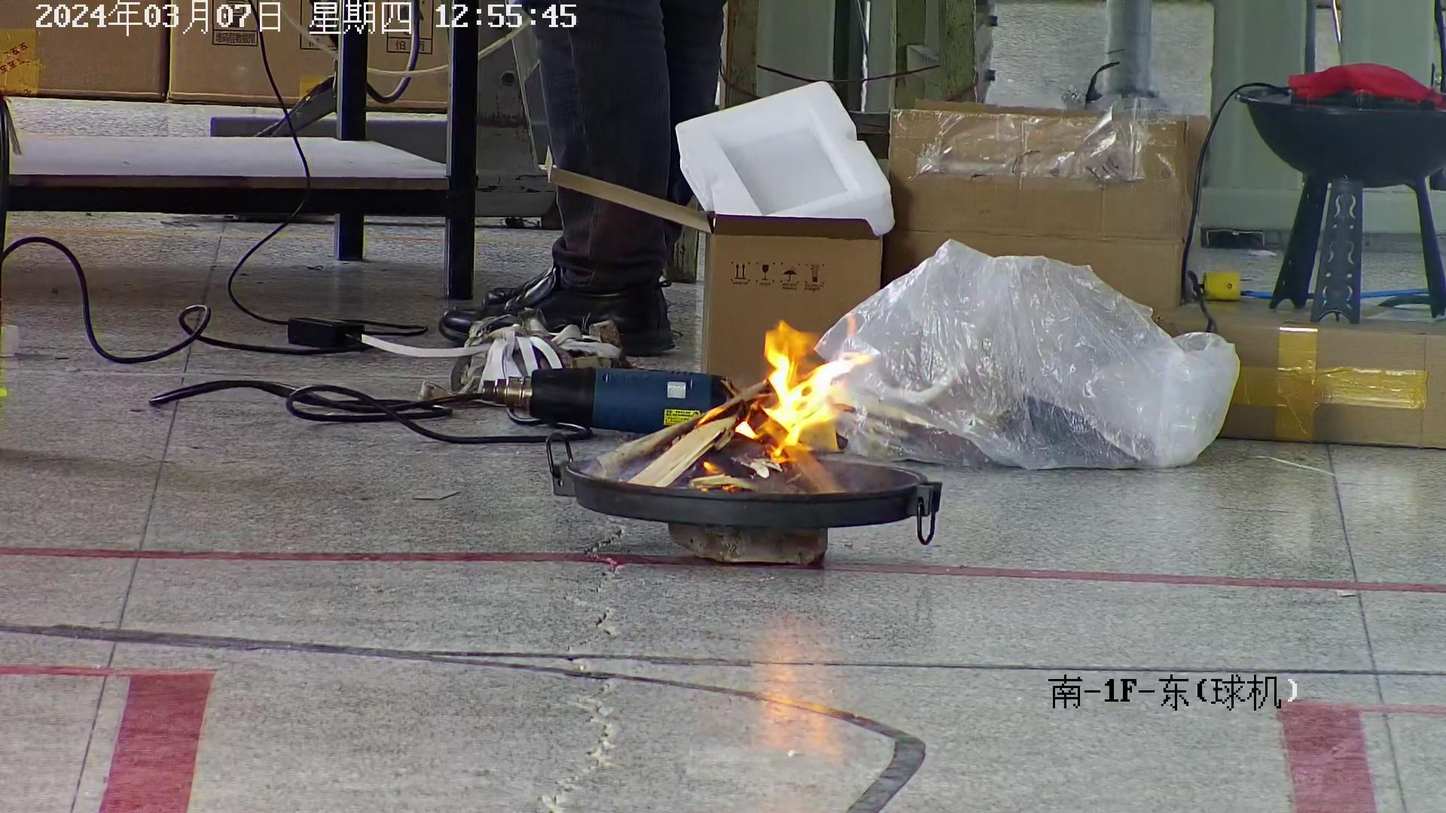fire: (690, 321, 868, 491)
